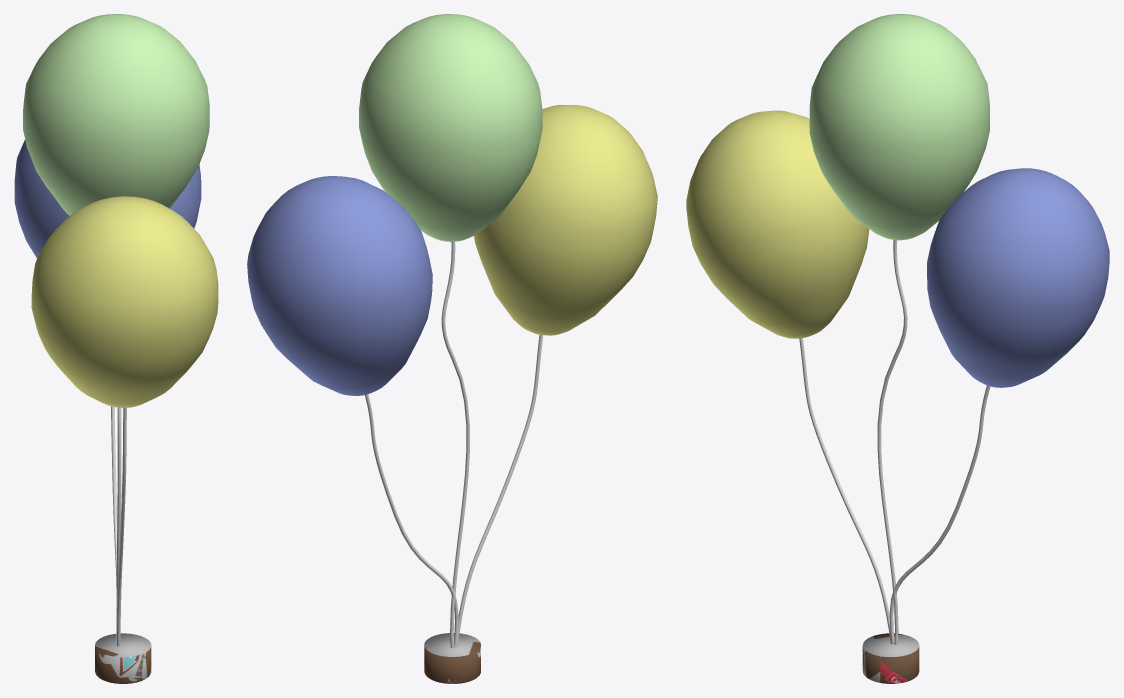
File: Mesh_Balloons.fbx
3 views of the same model, side by side, from view 1: azimuth 30°, elevation 25°; view 2: azimuth 150°, elevation 25°; view 3: azimuth 270°, elevation 25° (orthographic).
Parts seen in each view (by area): view 1: Ballon.001; view 2: Ballon.001; view 3: Ballon.001.
Boxes of the visible parts, <box> form: Ballon.001: <box>14,14,218,683</box>; Ballon.001: <box>247,14,657,683</box>; Ballon.001: <box>686,14,1109,683</box>.
Bounding box in the file's own units: 48.18 × 113 × 66.92.
